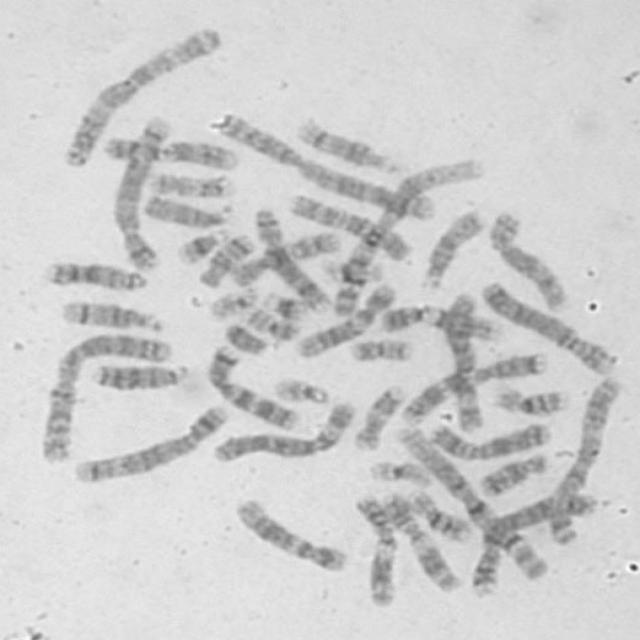A1: (388, 416, 552, 584), (324, 153, 488, 320)
A2: (210, 106, 441, 222), (33, 326, 175, 465)
A3: (54, 20, 226, 168), (540, 374, 626, 549)
B4: (464, 486, 600, 600), (476, 275, 622, 376)
B5: (69, 398, 233, 486), (108, 111, 176, 272)
C10: (284, 190, 415, 263), (224, 226, 342, 288)
C11: (373, 486, 467, 596), (349, 489, 402, 608)
C12: (228, 492, 352, 574), (291, 277, 401, 360)
C6: (208, 395, 362, 465), (440, 288, 486, 432)
C7: (396, 347, 549, 425), (202, 339, 304, 432)
C8: (483, 206, 572, 312), (250, 204, 332, 314)
C9: (93, 130, 240, 172), (374, 300, 506, 344)
D13: (39, 254, 149, 293), (88, 357, 192, 392)
D14: (288, 111, 402, 177), (55, 295, 167, 334)
D15: (417, 204, 488, 290), (139, 190, 238, 230)
E16: (400, 482, 476, 543), (487, 379, 572, 418)
E17: (350, 378, 409, 453), (143, 167, 235, 198)
E18: (473, 446, 554, 498), (193, 229, 257, 290)
F19: (364, 455, 434, 490), (317, 253, 387, 286)
F20: (241, 302, 302, 342), (344, 331, 416, 364)
G21: (172, 223, 232, 266), (258, 286, 311, 322)
G22: (204, 281, 262, 322), (268, 370, 334, 406)
X: (425, 415, 553, 461)
Y: (220, 317, 271, 356)
